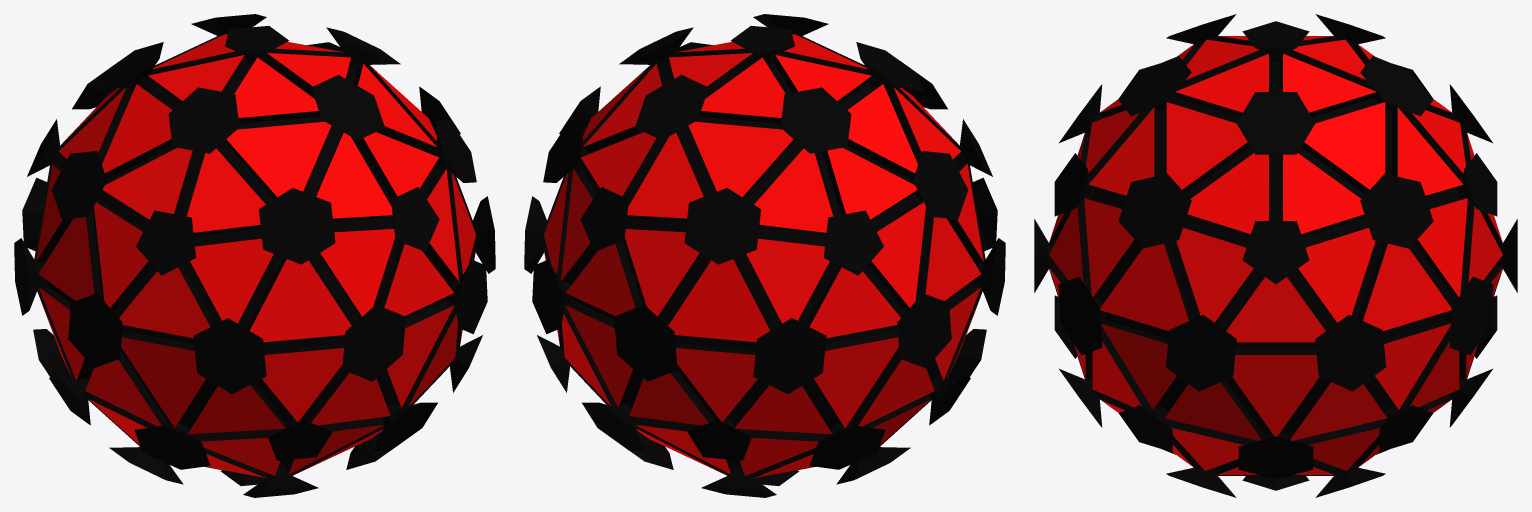
File: thing.fbx
3 renders of one model, left to right at view 1: azimuth 30°, elevation 25°; view 2: azimuth 150°, elevation 25°; view 3: azimuth 270°, elevation 25°, orthographic.
Visible parts, largest first — view 1: Icosphere; view 2: Icosphere; view 3: Icosphere.
Boxes of the visible parts, box(x1,y1,x2,y2) form: Icosphere: box(14, 14, 495, 497); Icosphere: box(524, 14, 1005, 497); Icosphere: box(1034, 14, 1517, 497).
Bounding box in the file's own units: 0.9901 × 0.9947 × 0.9913.
